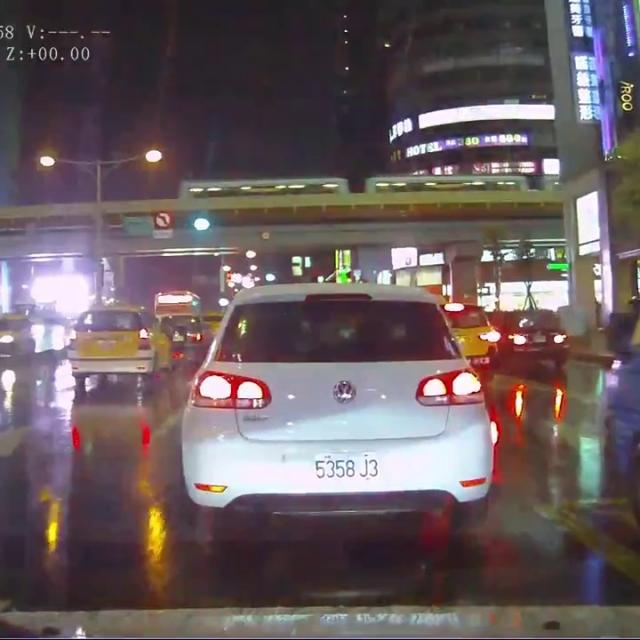Car: (177, 278, 495, 522), (64, 301, 171, 386), (439, 291, 510, 368), (501, 303, 570, 367), (154, 309, 215, 363), (0, 309, 36, 359)
